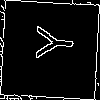Y: (25, 25, 75, 60)
